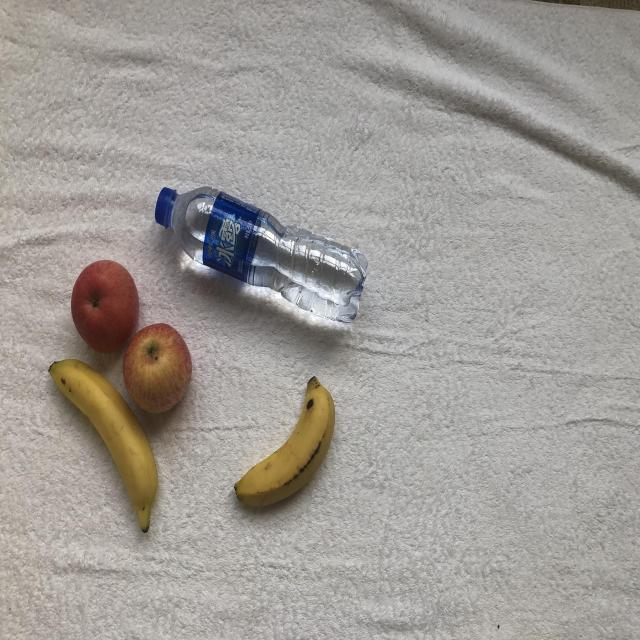Apple: (68, 253, 143, 359), (120, 312, 192, 421)
Banana: (40, 350, 162, 541), (232, 358, 338, 524)
